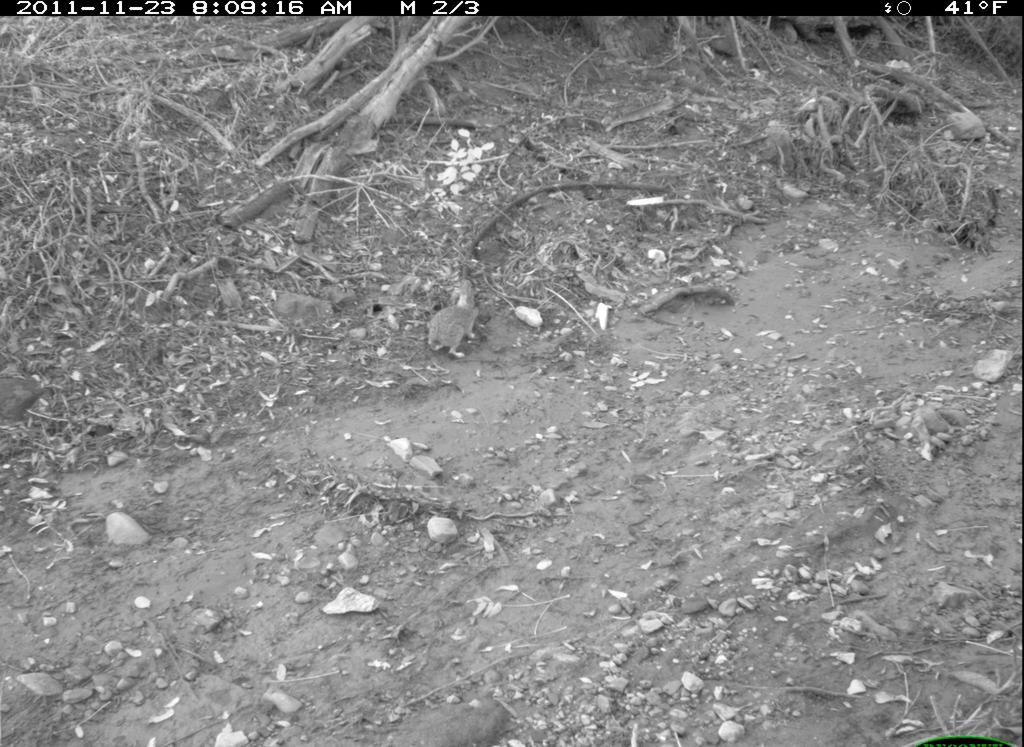rabbit: (418, 271, 487, 367)
